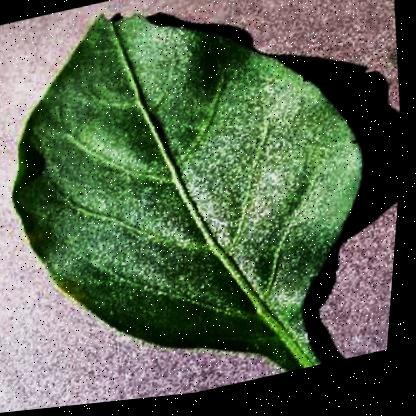Healthy: (0, 0, 405, 415)
